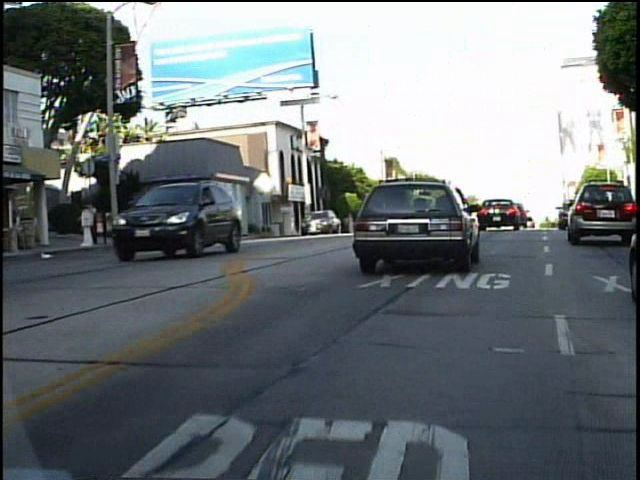person: (87, 193, 110, 249)
